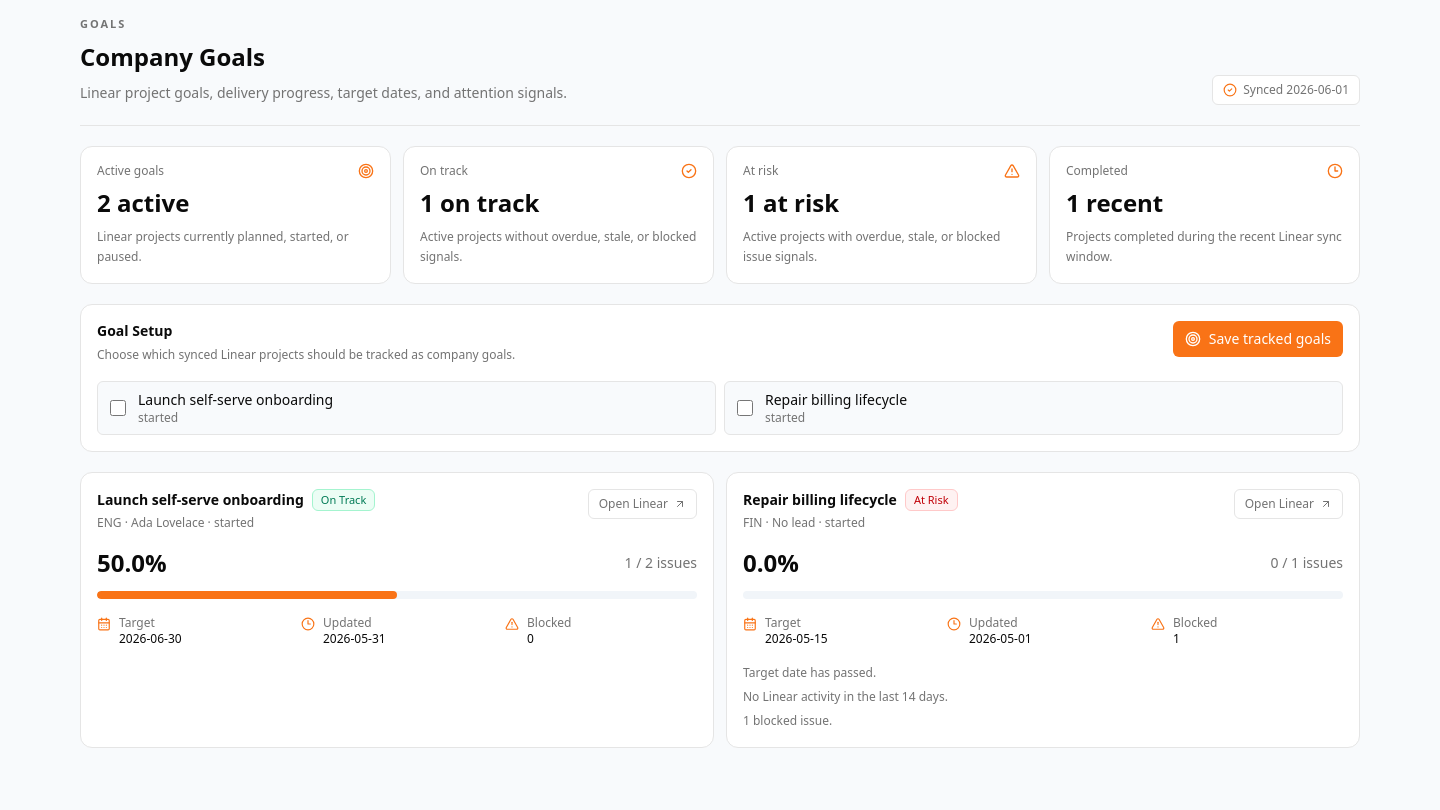
it: CompanyGoalsDashboard › lets users choose which synced Linear projects become tracked goals
The image size is (1440, 810).
Click the checkbox labelled "Launch self-serve onboarding started".
click(118, 408)  # box [110,400,126,416]
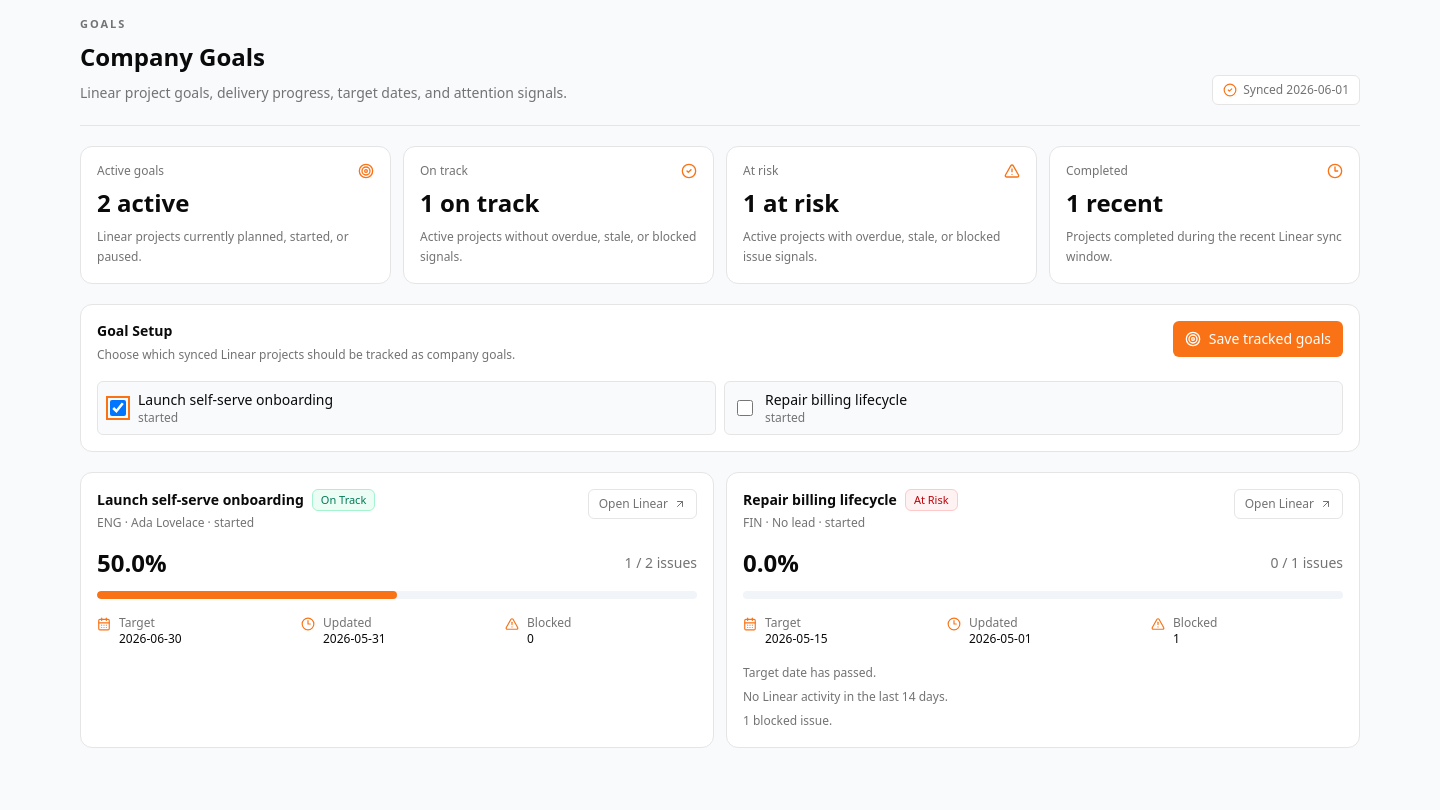
Click the button "Save tracked goals".
click(1258, 338)  # box [1173,320,1343,356]
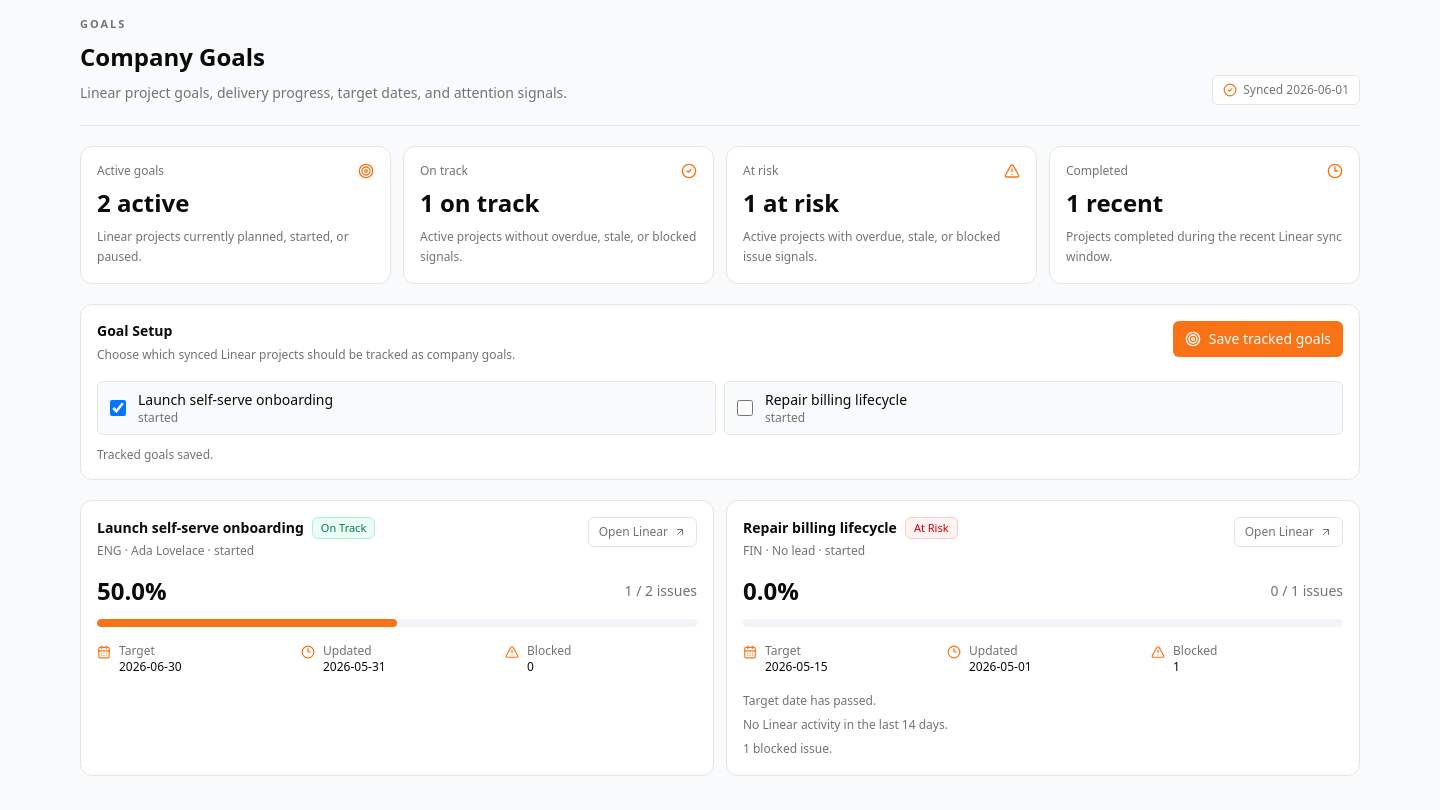
Expected: the text "Tracked goals saved." is shown, [97,446,213,462]
